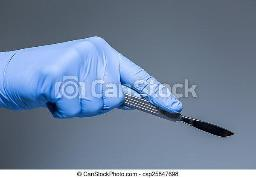scalpel: (122, 92, 236, 138)
